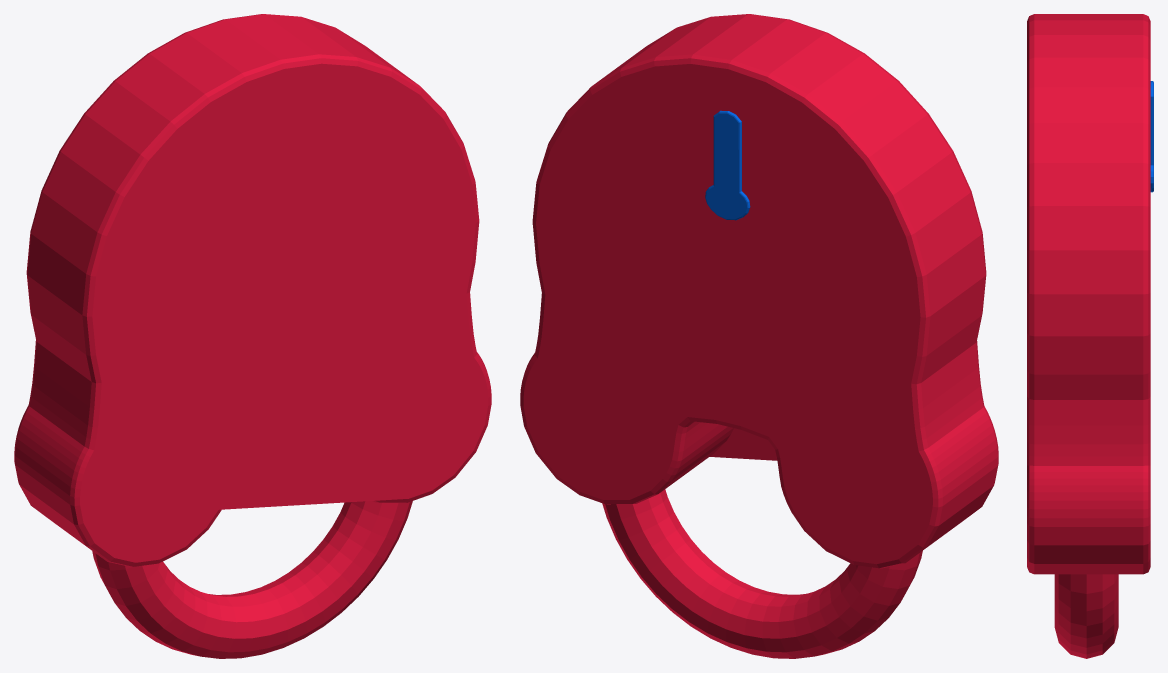
Rendered from LockLPflat.fbx.
3 renders of one model, left to right at view 1: azimuth 30°, elevation 25°; view 2: azimuth 150°, elevation 25°; view 3: azimuth 270°, elevation 25°, orthographic.
Parts seen in each view (by area): view 1: BezierCircle; view 2: BezierCircle; view 3: BezierCircle.
Boxes of the visible parts, x1,y1,x2,y2 form: BezierCircle: [14, 14, 491, 658]; BezierCircle: [520, 14, 998, 658]; BezierCircle: [1027, 14, 1153, 658].
Size of the model in its own units: 212 by 295 by 55.94.
